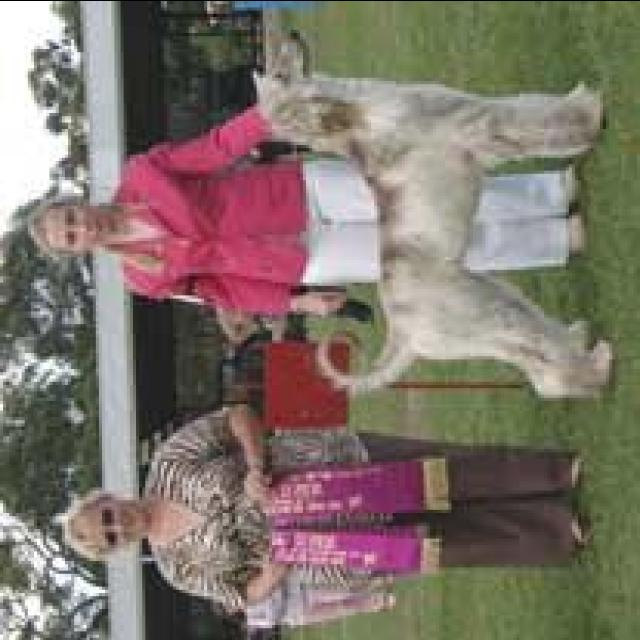afghan_hound: (247, 3, 618, 410)
